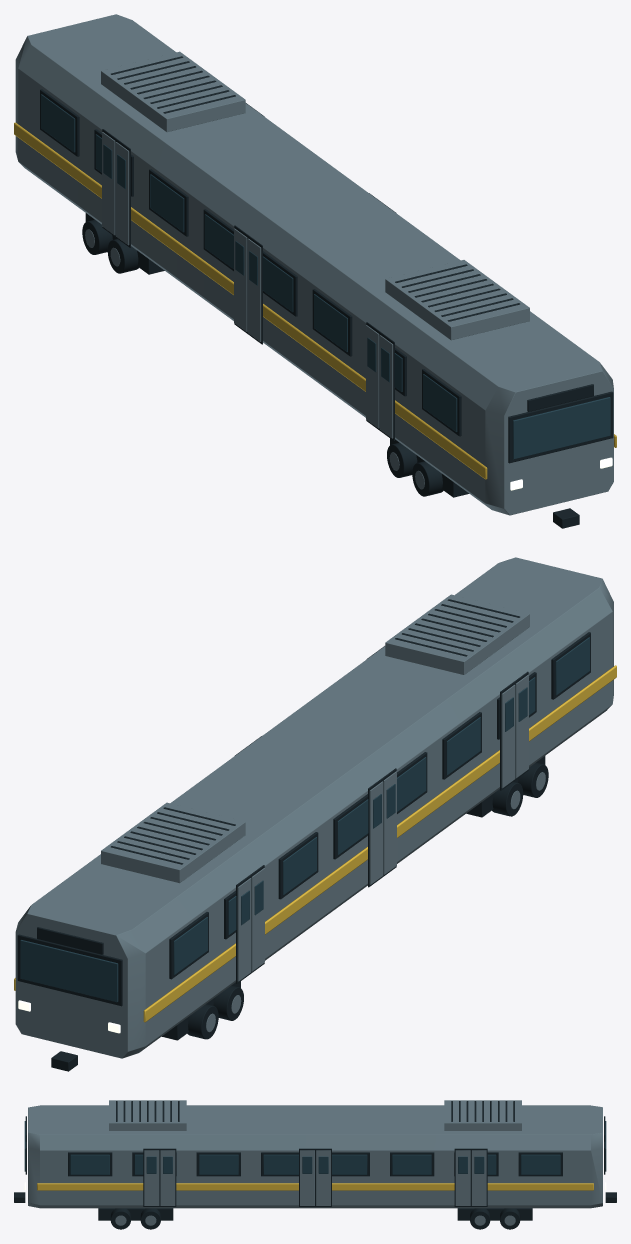
Rendered from commuter_train.glb.
The picture shows the model from 3 angles, top to bottom: view 1: azimuth 30°, elevation 25°; view 2: azimuth 150°, elevation 25°; view 3: azimuth 270°, elevation 25°; orthographic projection. The views are drawn at different scales.
Visible parts, largest first — view 1: Detail.commuter_train.Metal, Detail.commuter_train.Dark, Detail.commuter_train.Glass, Detail.commuter_train.Yellow; view 2: Detail.commuter_train.Metal, Detail.commuter_train.Dark, Detail.commuter_train.Glass, Detail.commuter_train.Yellow; view 3: Detail.commuter_train.Metal, Detail.commuter_train.Dark, Detail.commuter_train.Glass, Detail.commuter_train.Yellow.
Part boxes in pixels (x1,y1,x2,y2): Detail.commuter_train.Metal: (15, 14, 613, 515); Detail.commuter_train.Dark: (40, 56, 613, 528); Detail.commuter_train.Glass: (41, 94, 610, 459); Detail.commuter_train.Yellow: (14, 122, 616, 479); Detail.commuter_train.Metal: (15, 557, 613, 1058); Detail.commuter_train.Dark: (17, 599, 590, 1071); Detail.commuter_train.Glass: (20, 637, 589, 1002); Detail.commuter_train.Yellow: (14, 665, 616, 1022); Detail.commuter_train.Metal: (28, 1100, 602, 1225); Detail.commuter_train.Dark: (14, 1101, 616, 1229); Detail.commuter_train.Glass: (24, 1121, 606, 1174); Detail.commuter_train.Yellow: (37, 1183, 593, 1190).
Size of the model in its own units: 3.15 by 3.73 by 20.14.
